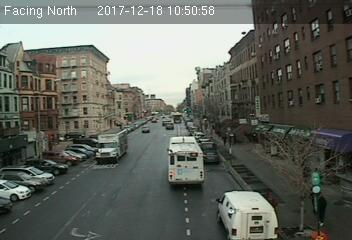bus: (167, 135, 204, 186)
car: (201, 147, 219, 162)
pedestrian: (314, 184, 327, 226)
truck: (217, 190, 276, 240), (94, 128, 127, 161)
